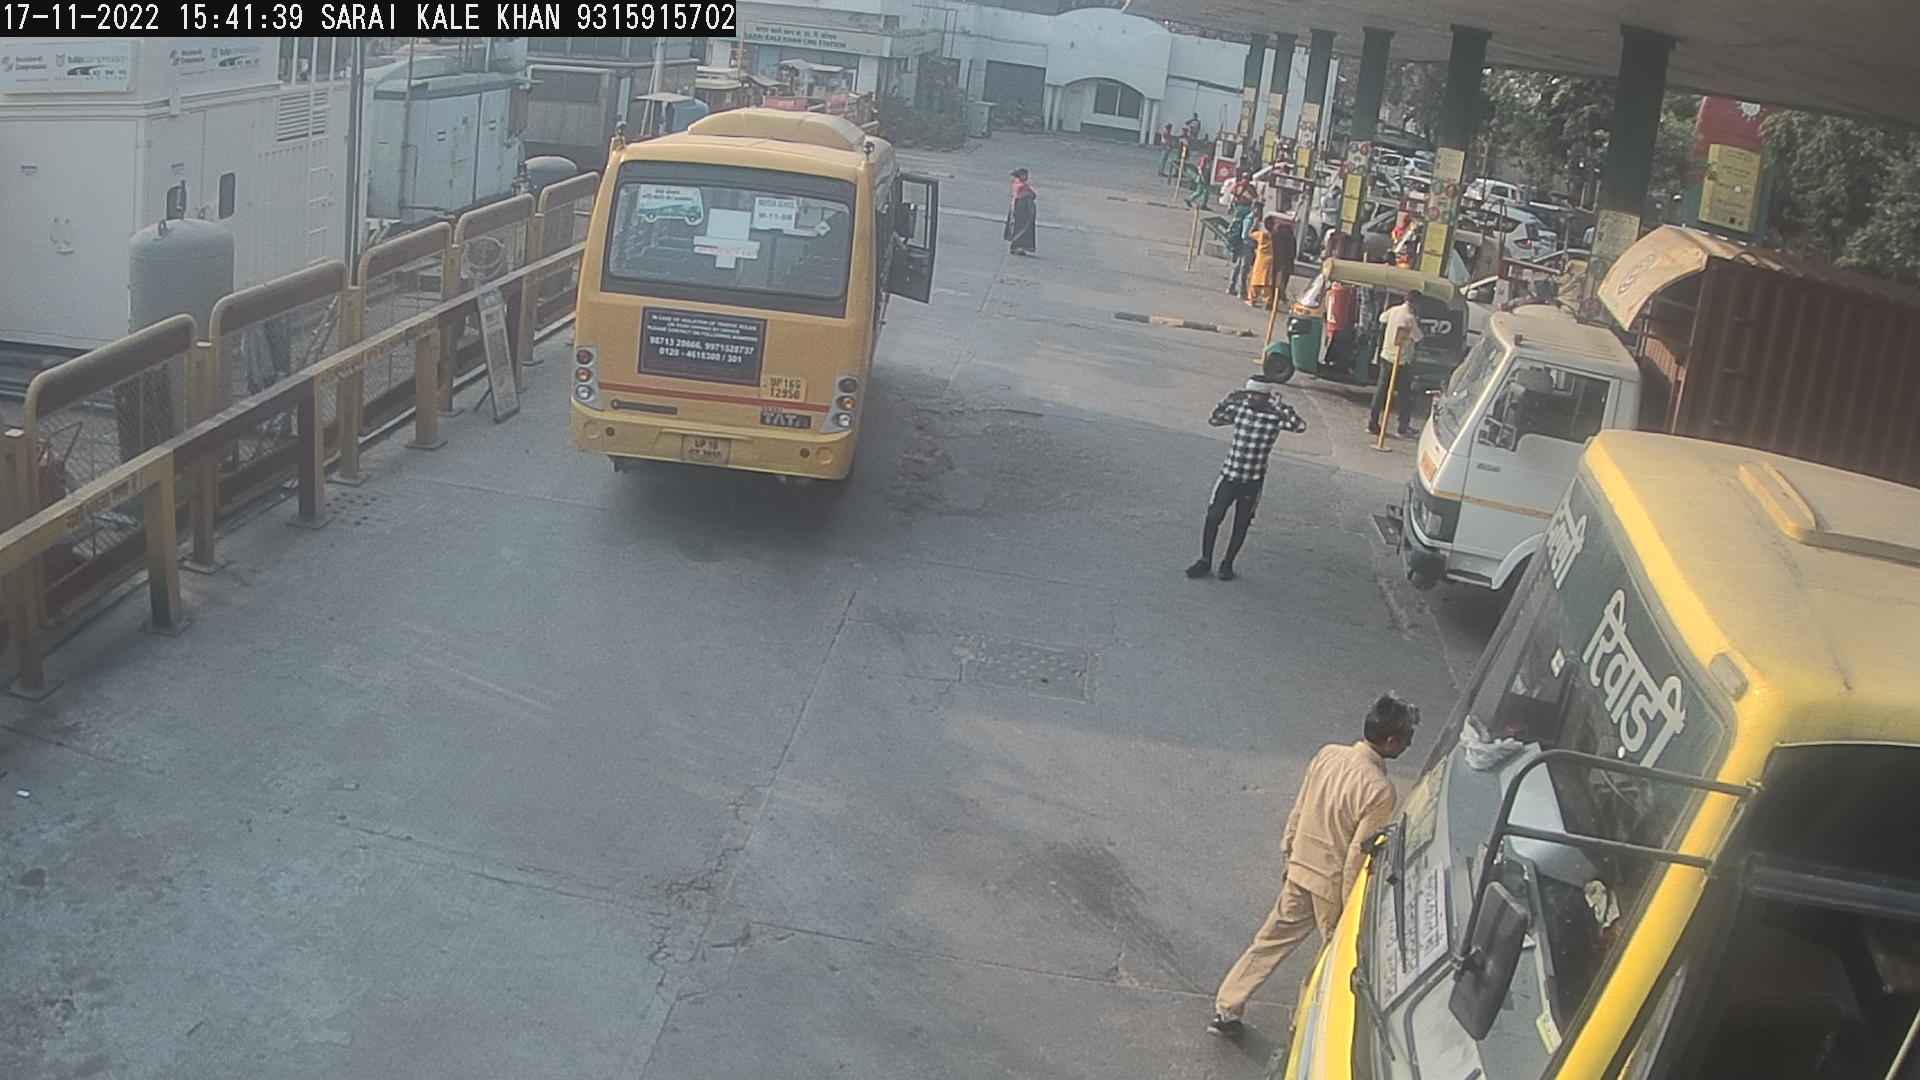Auto: (1241, 248, 1476, 422), (1437, 222, 1520, 313)
Car: (1424, 257, 1542, 393), (1313, 193, 1440, 290), (1451, 193, 1573, 281), (1189, 154, 1311, 241), (1356, 140, 1448, 200), (1455, 173, 1538, 227)
HMV: (1218, 396, 1917, 1077), (1352, 200, 1917, 640), (551, 90, 949, 512)
Others: (1220, 161, 1265, 266), (1385, 206, 1428, 285), (1180, 138, 1218, 219)
Others Other: (1364, 316, 1414, 459), (1247, 266, 1286, 375), (1164, 140, 1192, 208), (1185, 193, 1203, 284)
